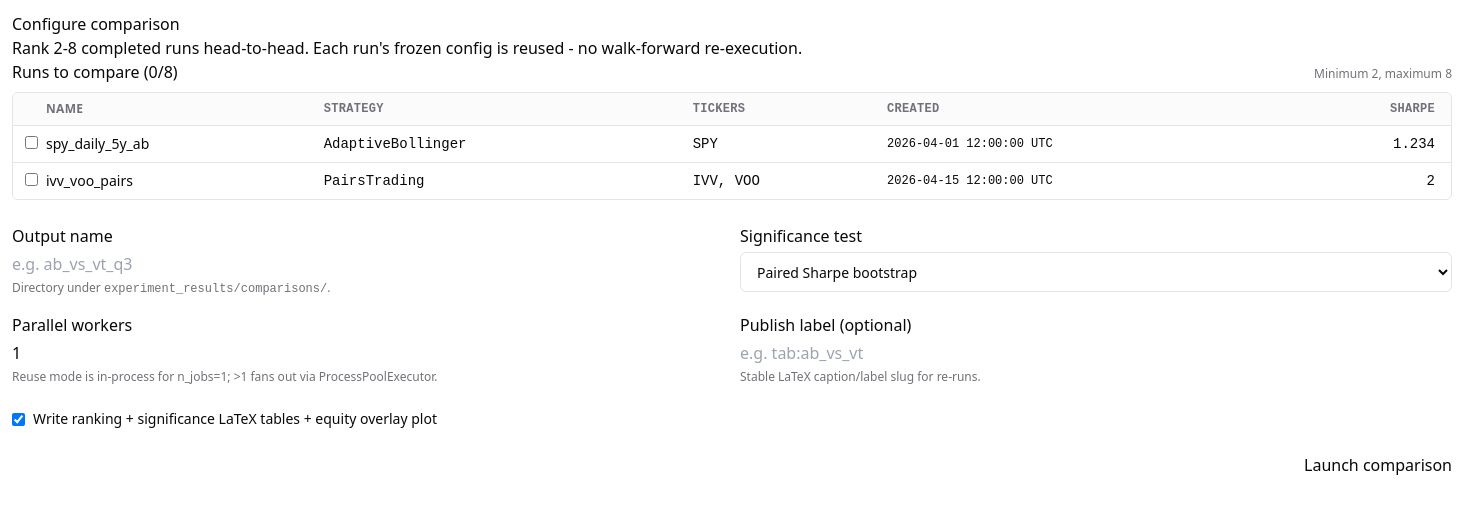
Scenario: ConfigureComparePage › disables runs whose data_hash differs from the first selection
The width and height of the screenshot is (1464, 512).
Expected: the text "spy_daily_5y_ab" is shown, [45,126,323,162]
What coordinates should you click on to do the following:
click the checkbox named "Select spy_daily_5y_ab"
I would click on:
 (32, 142)
Its box is [25,136,38,149].
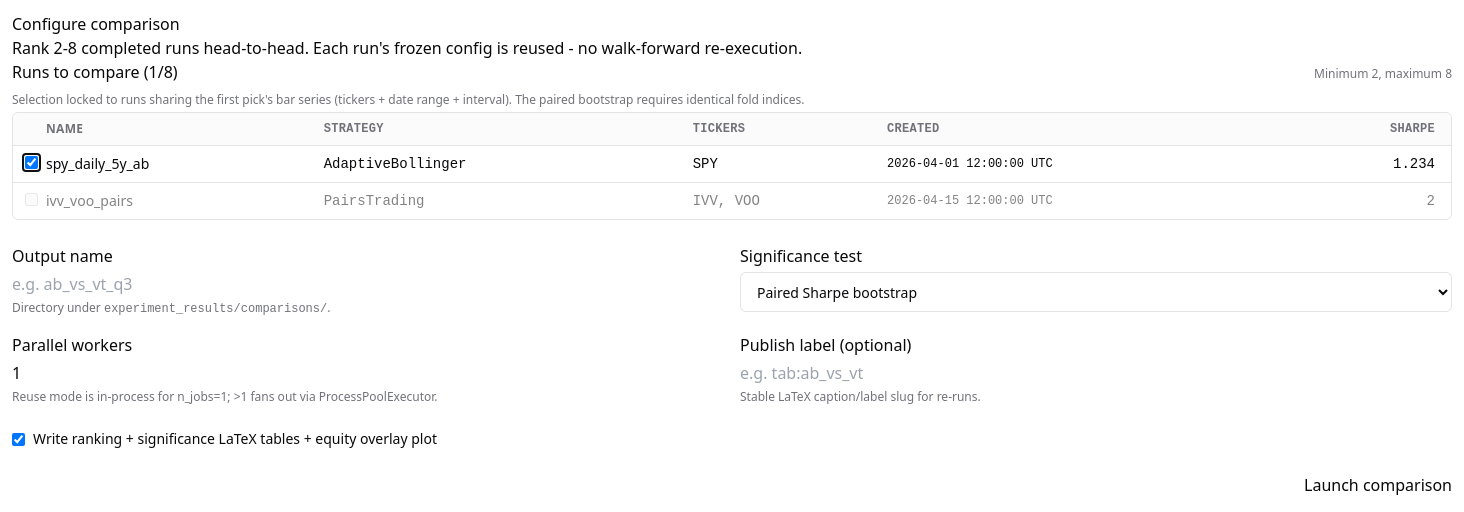
Result: the text with test id "compare-data-hash-lock-notice" is shown at [12,91,805,108]
What coordinates should you click on to do the following:
click the checkbox named "Select spy_daily_5y_ab"
I would click on:
 (32, 162)
Its box is [25,156,38,169].
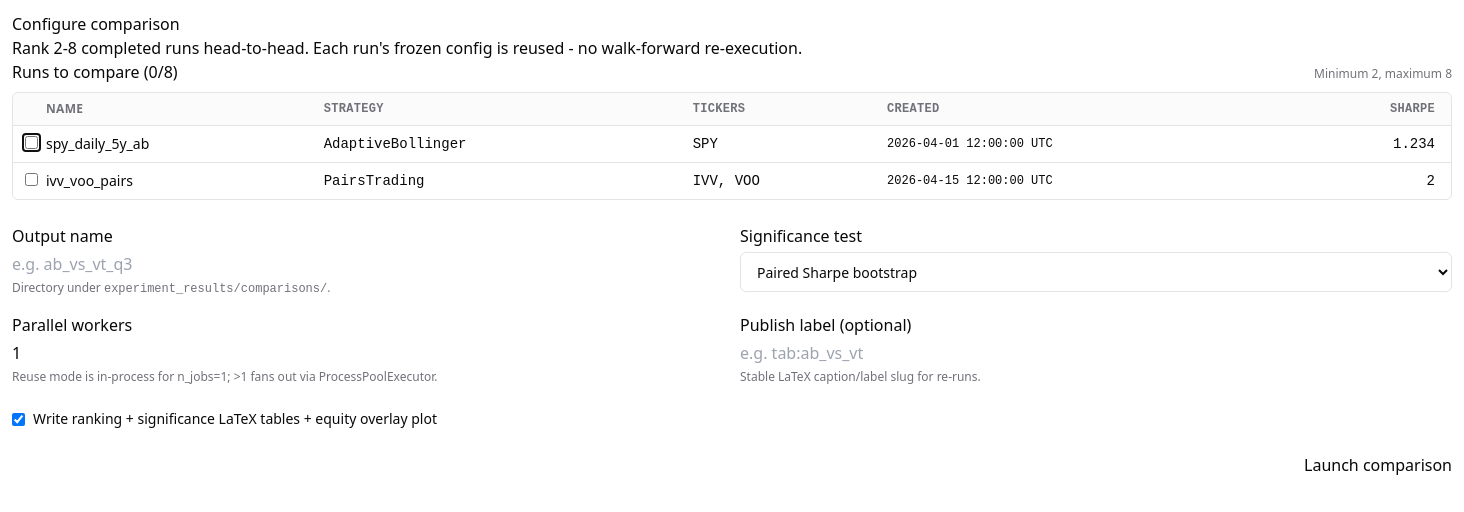
Result: the text with test id "compare-data-hash-lock-notice" is gone
